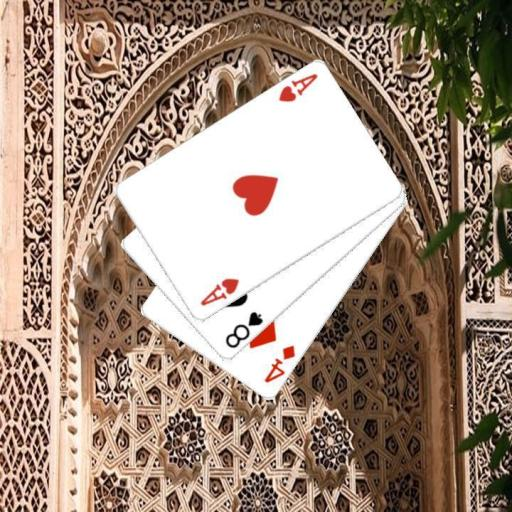card-corner: (222, 308, 265, 350), (261, 342, 297, 385), (275, 70, 319, 104), (197, 275, 241, 308)
